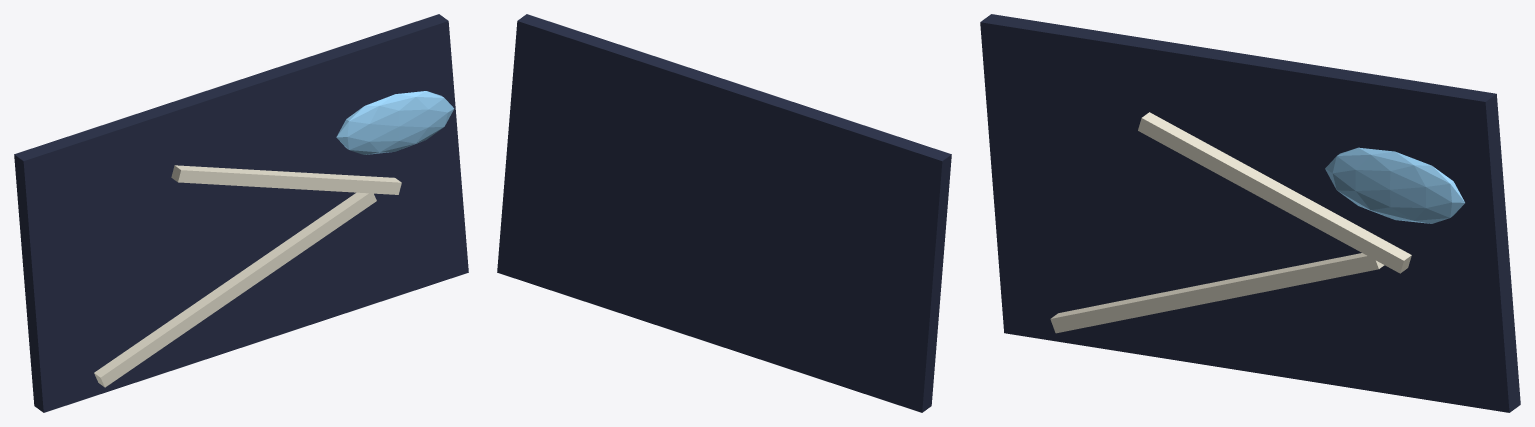
Rendered from 06_weathering_wear_overlay_6.glb.
3 renders of one model, left to right at view 1: azimuth 30°, elevation 25°; view 2: azimuth 150°, elevation 25°; view 3: azimuth 330°, elevation 25°, orthographic. The views are drawn at different scales.
Visible parts, largest first — view 1: wear_plate, scratch_a, rust_or_moss_spot, scratch_b; view 2: wear_plate; view 3: wear_plate, rust_or_moss_spot, scratch_b, scratch_a.
Boxes of the visible parts, x1,y1,x2,y2 form: wear_plate: (14, 14, 468, 412); scratch_a: (94, 192, 376, 387); rust_or_moss_spot: (336, 91, 454, 154); scratch_b: (171, 165, 401, 194); wear_plate: (497, 14, 951, 412); wear_plate: (980, 14, 1520, 412); rust_or_moss_spot: (1325, 147, 1464, 223); scratch_b: (1138, 112, 1411, 273); scratch_a: (1050, 253, 1384, 333).
Bounding box in the file's own units: 1.36 × 0.8541 × 0.134.
